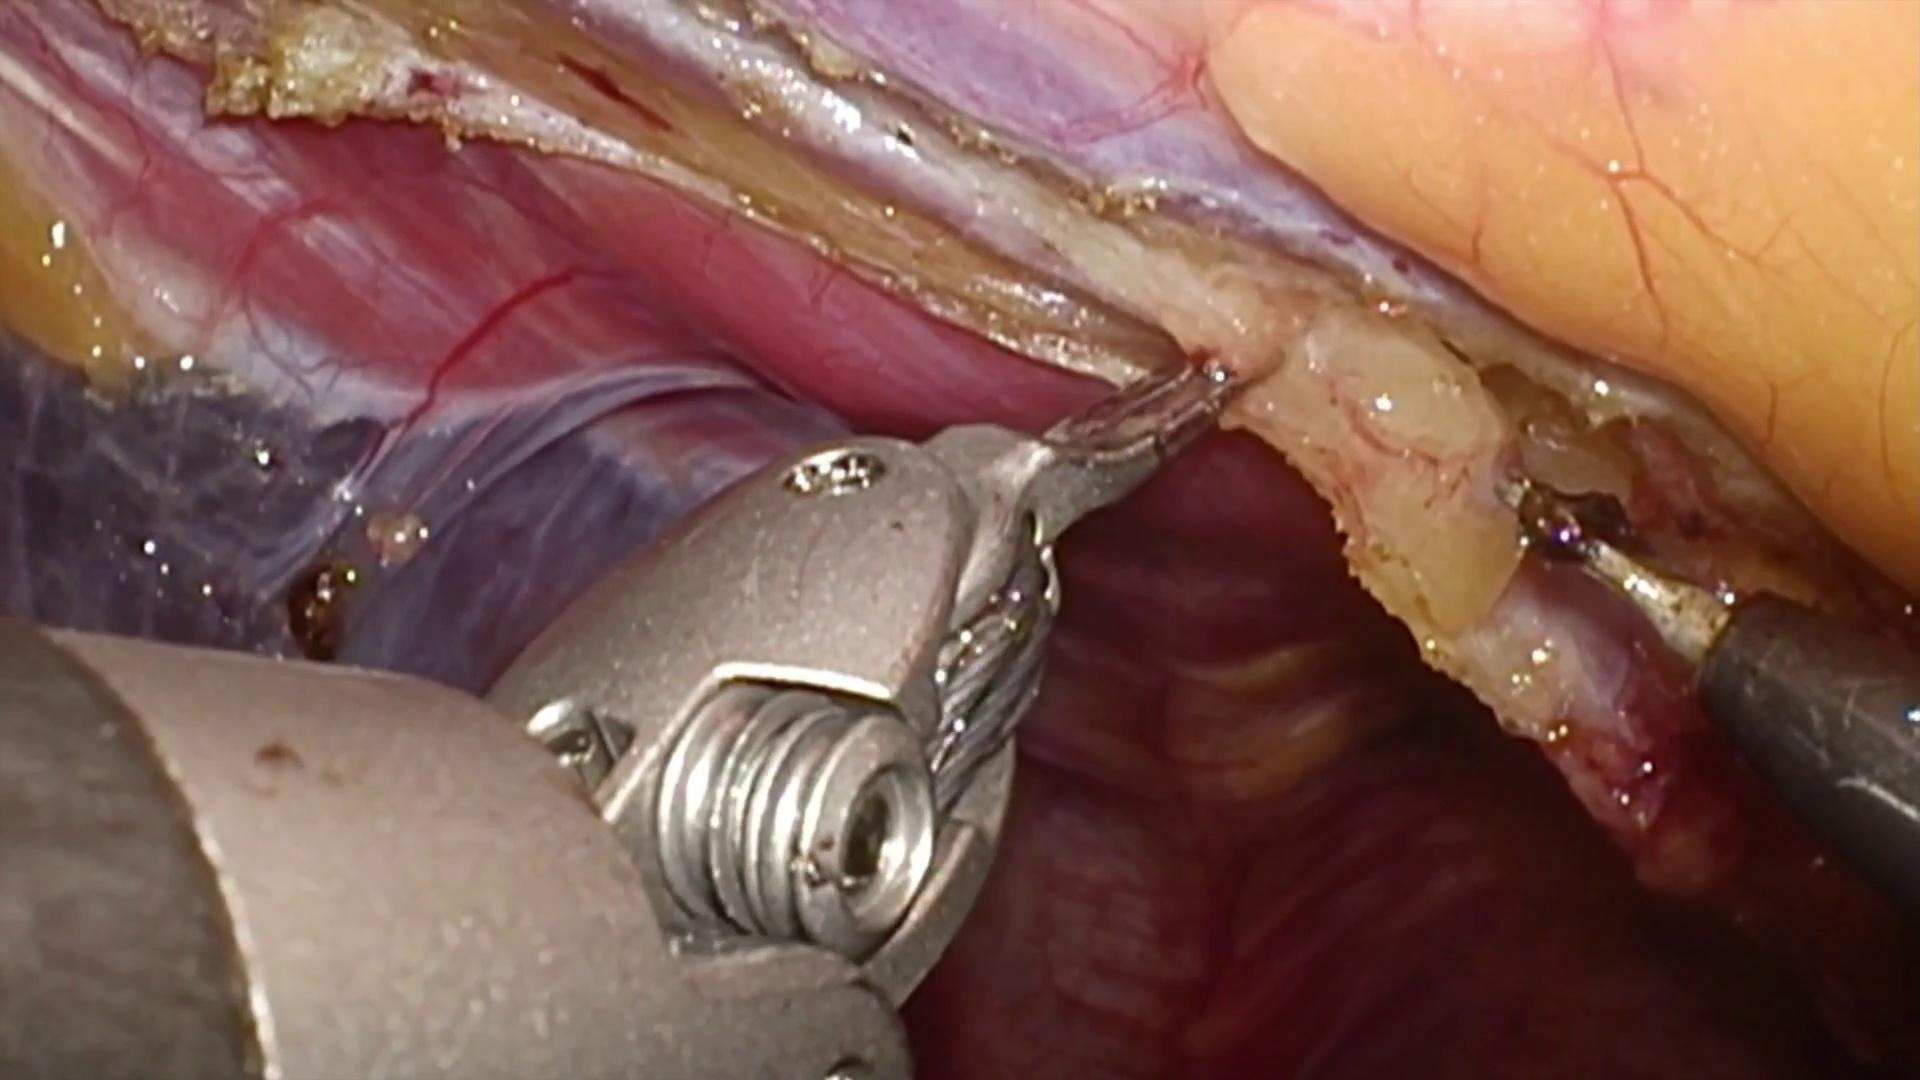Cautery_Spatula: (1495, 472, 1920, 920)
Debakey: (932, 344, 1250, 578)
